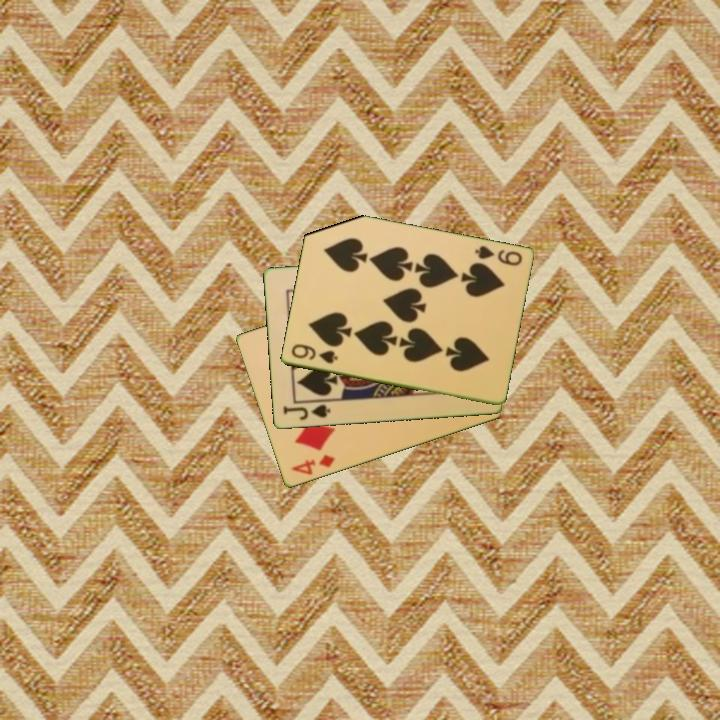4d: (288, 451, 338, 478)
9s: (471, 242, 525, 269), (287, 340, 340, 367)
Js: (279, 401, 333, 423)
